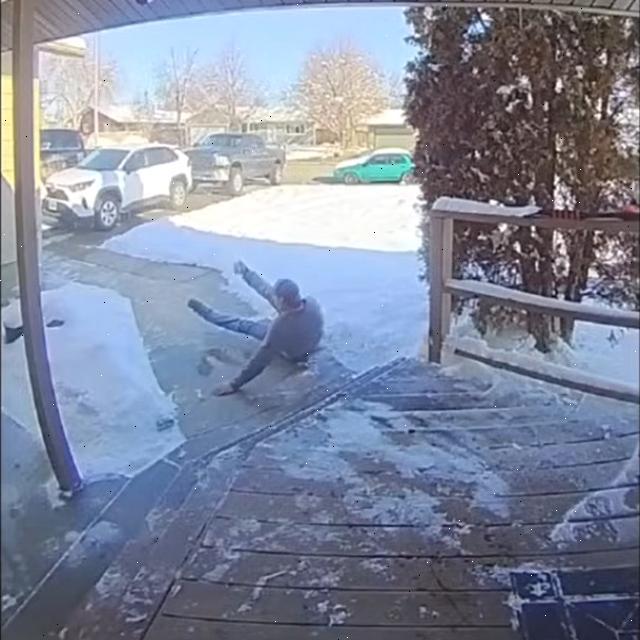fallen: (189, 261, 324, 393)
